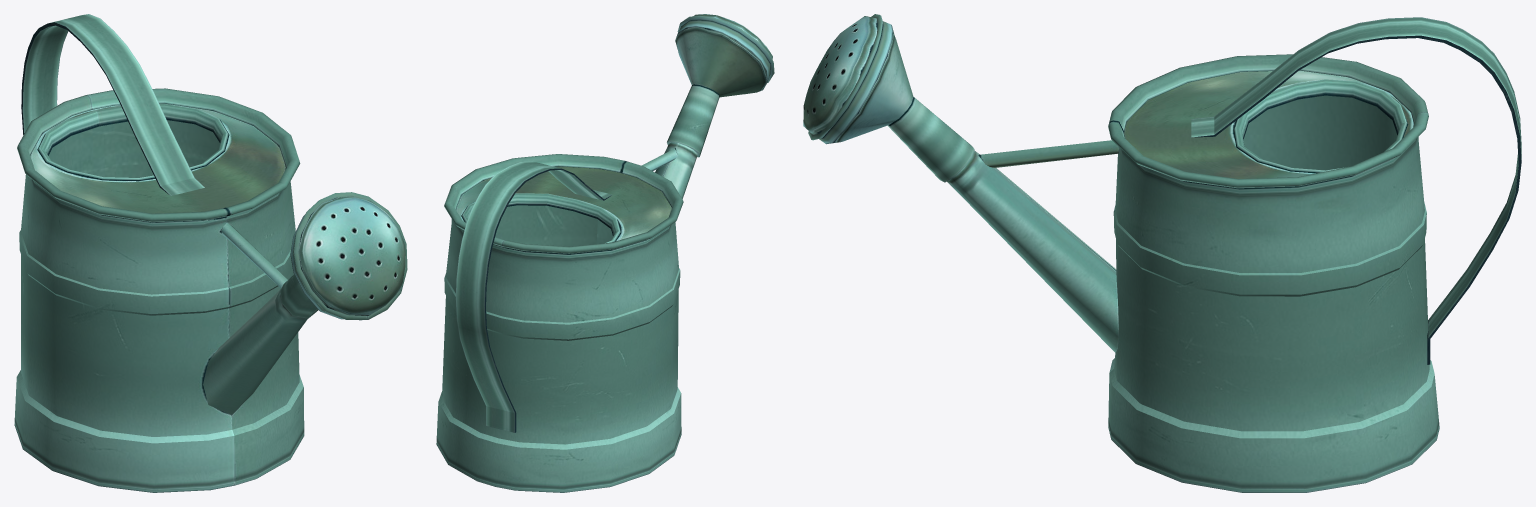
File: regadera-c.glb
3 views of the same model, side by side, from view 1: azimuth 30°, elevation 25°; view 2: azimuth 150°, elevation 25°; view 3: azimuth 270°, elevation 25° (orthographic). The views are drawn at different scales.
Parts seen in each view (by area): view 1: LP_WC_02_low_Material_0; view 2: LP_WC_02_low_Material_0; view 3: LP_WC_02_low_Material_0.
Boxes of the visible parts, x1,y1,x2,y2 form: LP_WC_02_low_Material_0: (14,14,407,492); LP_WC_02_low_Material_0: (436,14,774,492); LP_WC_02_low_Material_0: (803,14,1521,492).
Bounding box in the file's own units: 0.211 × 0.3052 × 0.4899.
1 material, 1 textured.
